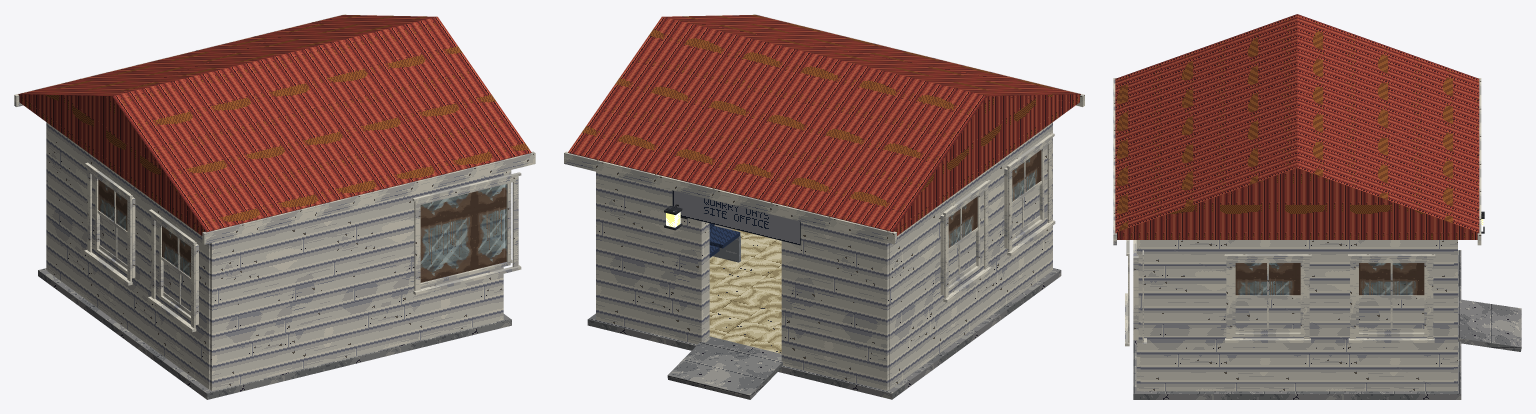
The model's file is buildings__office.glb.
3 renders of one model, left to right at view 1: azimuth 30°, elevation 25°; view 2: azimuth 150°, elevation 25°; view 3: azimuth 270°, elevation 25°, orthographic. The views are drawn at different scales.
Visible parts, largest first — view 1: _MeshInstance3D_164, _MeshInstance3D_160, RES_Ext_Window_Picture_1_6x1_4_Mesh, _MeshInstance3D_162, _MeshInstance3D_163, RES_Ext_Window_DoubleHung_1_1x1_3_Mesh, RES_Ext_Window_DoubleHung_1_1x1_3_Mesh3; view 2: _MeshInstance3D_164, _MeshInstance3D_160, _MeshInstance3D_162, _MeshInstance3D_166, _MeshInstance3D_163, RES_Ext_Window_DoubleHung_1_1x1_3_Mesh3, RES_Ext_Window_DoubleHung_1_1x1_3_Mesh, _MeshInstance3D_140, COM_WaitingChairs_Mesh; view 3: _MeshInstance3D_164, _MeshInstance3D_160, _MeshInstance3D_162, RES_Ext_Window_DoubleHung_1_1x1_3_Mesh4, RES_Ext_Window_DoubleHung_1_1x1_3_Mesh2, RES_Ext_Window_Picture_1_6x1_4_Mesh, _MeshInstance3D_163, INT_WindowSash2, INT_WindowSash4.
Boxes of the visible parts, x1,y1,x2,y2 form: _MeshInstance3D_164: [18, 15, 531, 235]; _MeshInstance3D_160: [46, 122, 503, 390]; RES_Ext_Window_Picture_1_6x1_4_Mesh: [412, 170, 521, 295]; _MeshInstance3D_162: [38, 268, 511, 399]; _MeshInstance3D_163: [14, 14, 535, 244]; RES_Ext_Window_DoubleHung_1_1x1_3_Mesh: [84, 162, 135, 285]; RES_Ext_Window_DoubleHung_1_1x1_3_Mesh3: [148, 209, 198, 332]; _MeshInstance3D_164: [568, 15, 1080, 235]; _MeshInstance3D_160: [596, 122, 1052, 390]; _MeshInstance3D_162: [587, 268, 1061, 399]; _MeshInstance3D_166: [709, 229, 781, 353]; _MeshInstance3D_163: [564, 14, 1084, 244]; RES_Ext_Window_DoubleHung_1_1x1_3_Mesh3: [1004, 133, 1055, 255]; RES_Ext_Window_DoubleHung_1_1x1_3_Mesh: [940, 180, 991, 302]; _MeshInstance3D_140: [672, 190, 800, 245]; COM_WaitingChairs_Mesh: [709, 223, 740, 262]; _MeshInstance3D_164: [1115, 14, 1479, 239]; _MeshInstance3D_160: [1136, 240, 1457, 391]; _MeshInstance3D_162: [1133, 250, 1521, 399]; RES_Ext_Window_DoubleHung_1_1x1_3_Mesh4: [1224, 254, 1311, 342]; RES_Ext_Window_DoubleHung_1_1x1_3_Mesh2: [1348, 254, 1435, 342]; RES_Ext_Window_Picture_1_6x1_4_Mesh: [1125, 240, 1146, 346]; _MeshInstance3D_163: [1113, 78, 1481, 245]; INT_WindowSash2: [1359, 298, 1424, 332]; INT_WindowSash4: [1235, 298, 1300, 332].
Bounding box in the file's own units: 5.7 × 4.1 × 6.28.
Materials: 29 (23 with a texture image).
